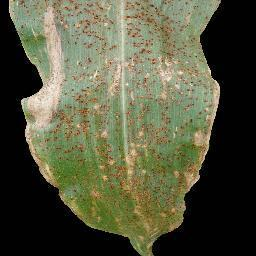Corn_Common_Rust: (97, 0, 223, 256), (6, 0, 96, 230)
